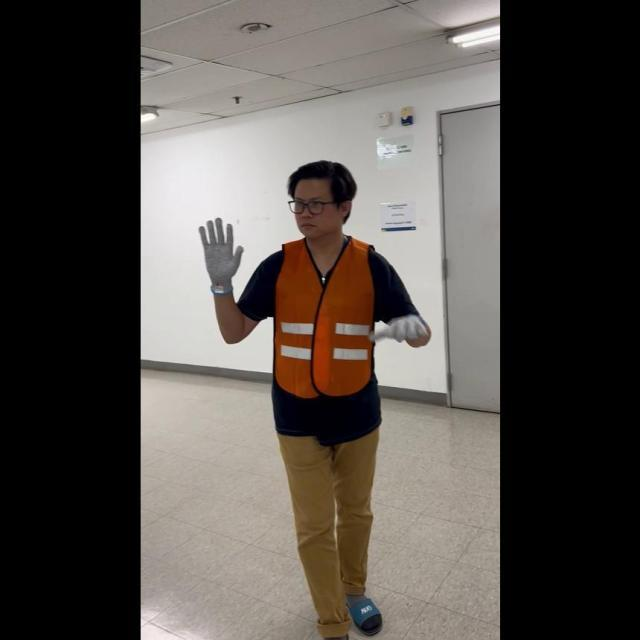gloved_hand: (196, 214, 243, 293), (366, 308, 430, 348)
